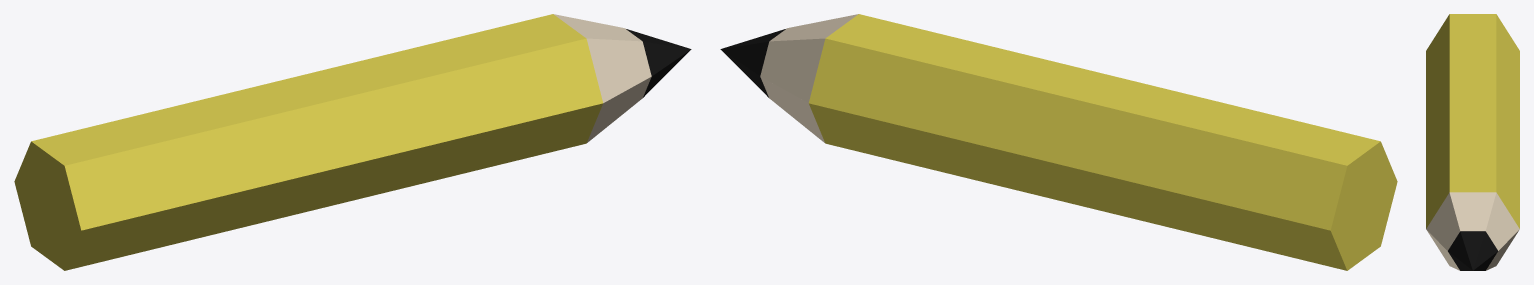
Rendered from Pencilstatue.glb.
The picture shows the model from 3 angles, left to right: view 1: azimuth 30°, elevation 25°; view 2: azimuth 150°, elevation 25°; view 3: azimuth 270°, elevation 25°; orthographic projection. The views are drawn at different scales.
Parts seen in each view (by area): view 1: Mesh_Mesh_head_geo.001_lambert2SG.001; view 2: Mesh_Mesh_head_geo.001_lambert2SG.001; view 3: Mesh_Mesh_head_geo.001_lambert2SG.001.
Part boxes in pixels (left/top/right/bottom): Mesh_Mesh_head_geo.001_lambert2SG.001: left=14, top=14, right=691, bottom=270; Mesh_Mesh_head_geo.001_lambert2SG.001: left=720, top=14, right=1397, bottom=270; Mesh_Mesh_head_geo.001_lambert2SG.001: left=1426, top=14, right=1519, bottom=270.
Bounding box in the file's own units: 111 × 17.32 × 20.
